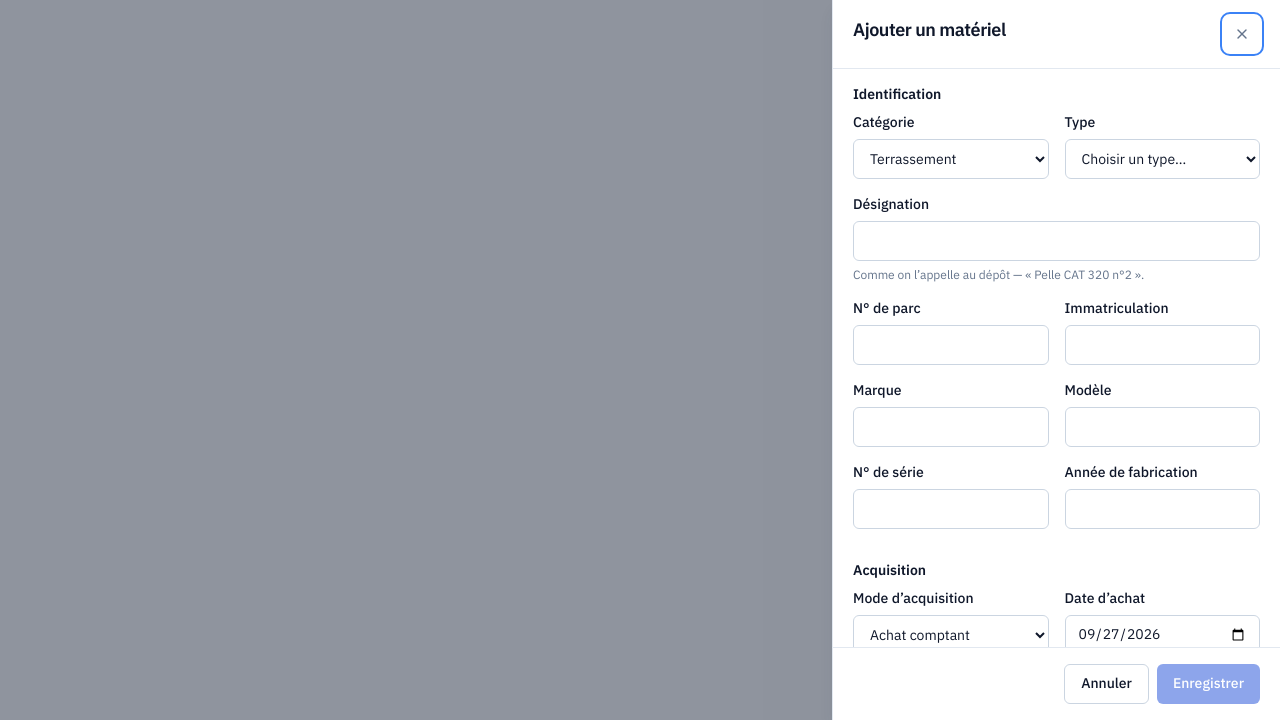
Test: EquipmentDrawer, the money › marks a residual value above the price
Select "Compactage" in the dropdown labelled "Catégorie": x=951, y=159 [853,139,1048,179]
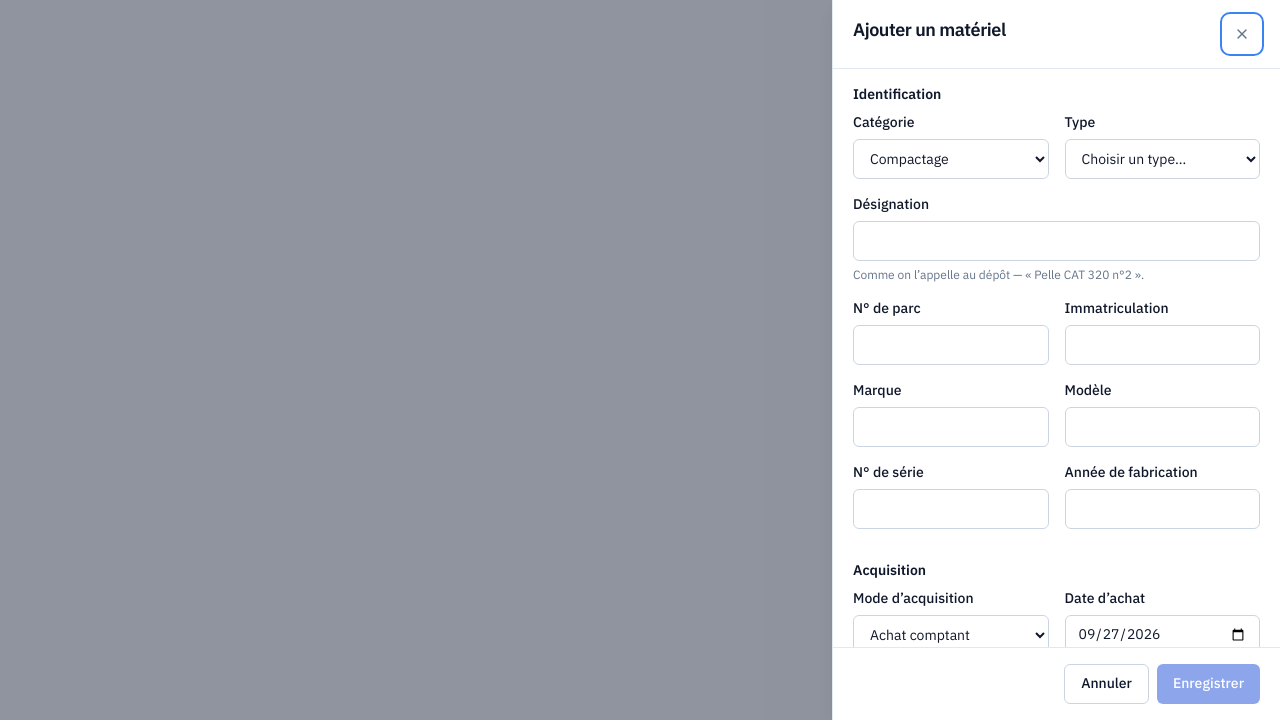
Select "Compacteur tandem" in the dropdown labelled "Type": x=1162, y=159 [1064,139,1260,179]
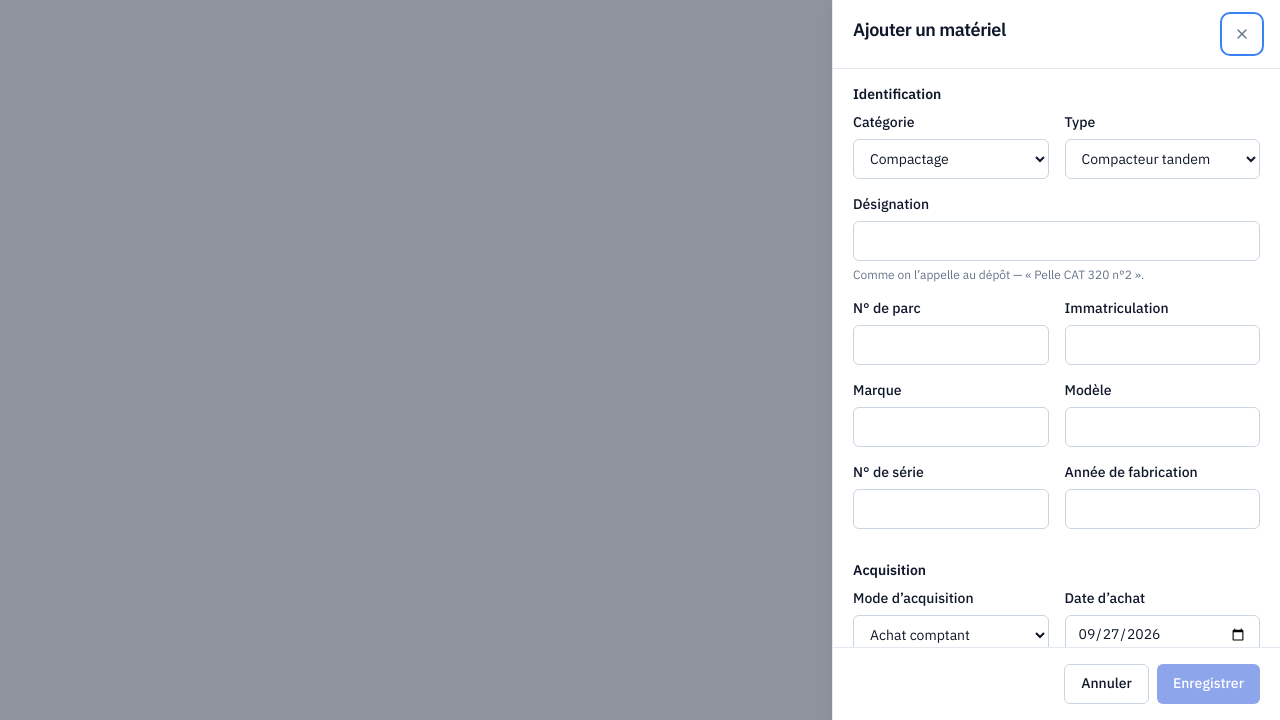
In the field labelled "Désignation": x=1056, y=241 [853,221,1260,261], type "Compacteur tandem HAMM"
(page scrolled)
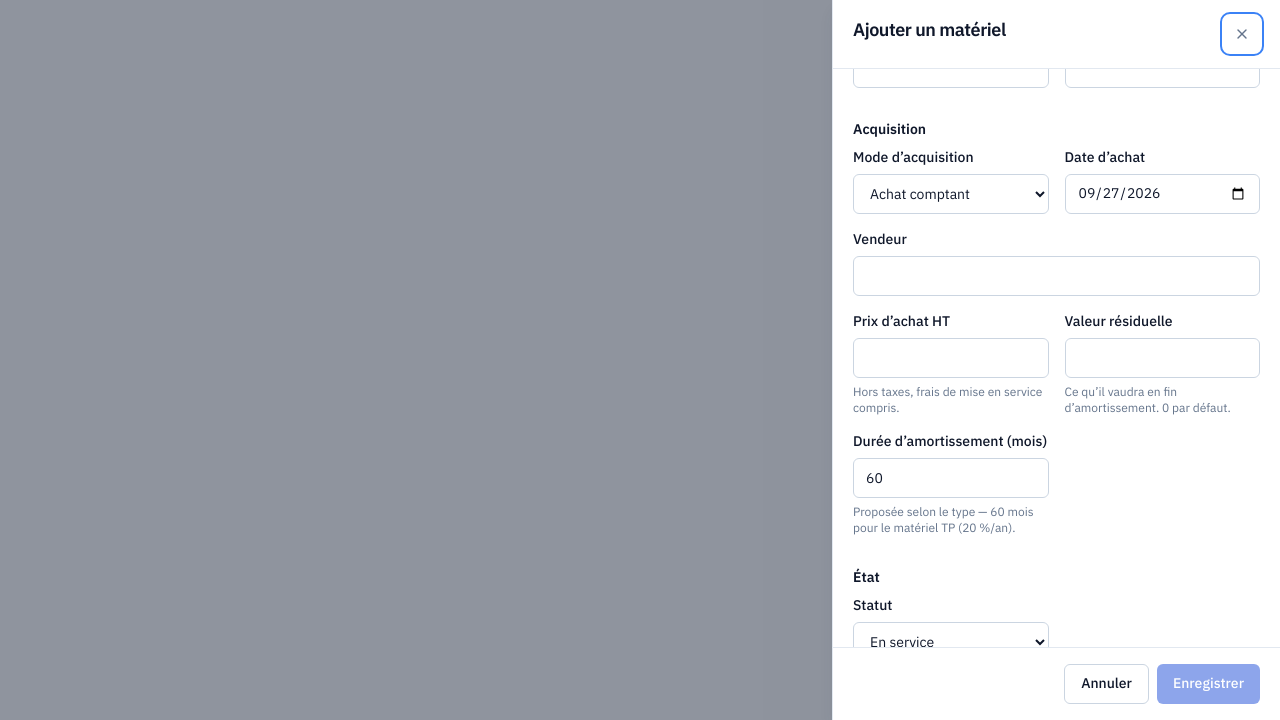
In the number field labelled "Prix d’achat HT": x=951, y=358 [853,338,1048,378], type "1000"
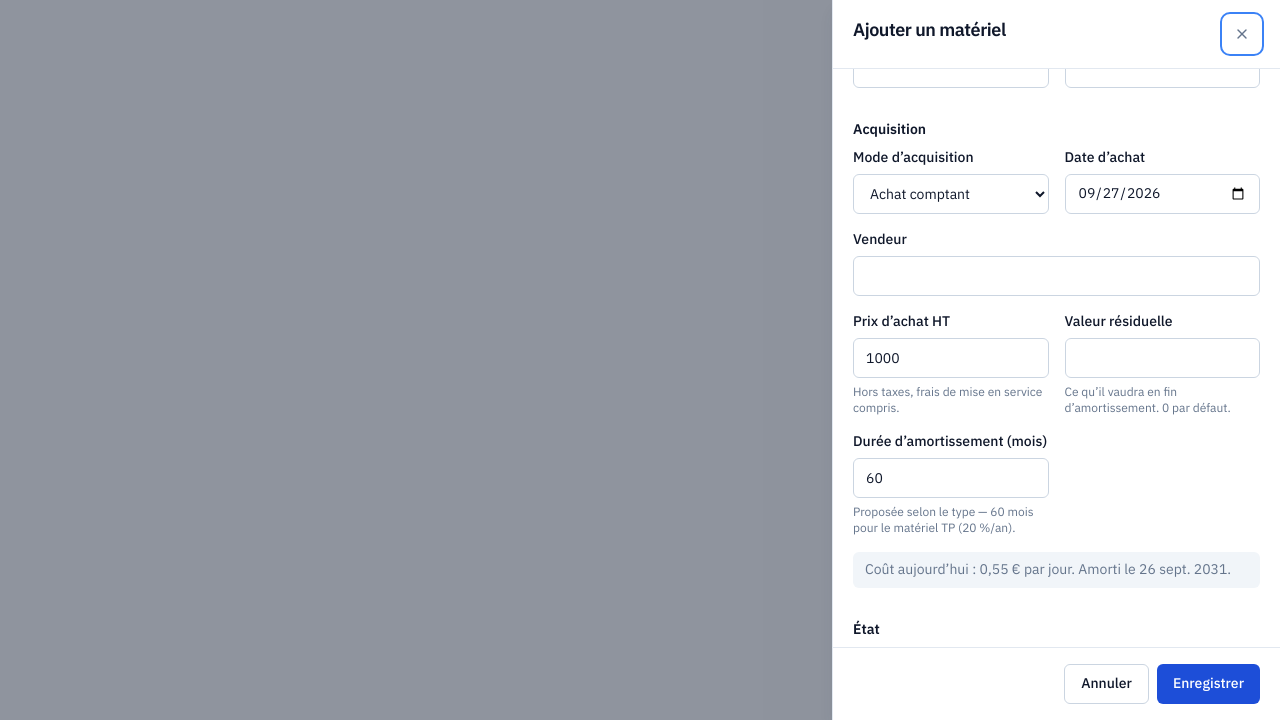
In the number field labelled "Valeur résiduelle": x=1162, y=358 [1064,338,1260,378], type "2000"
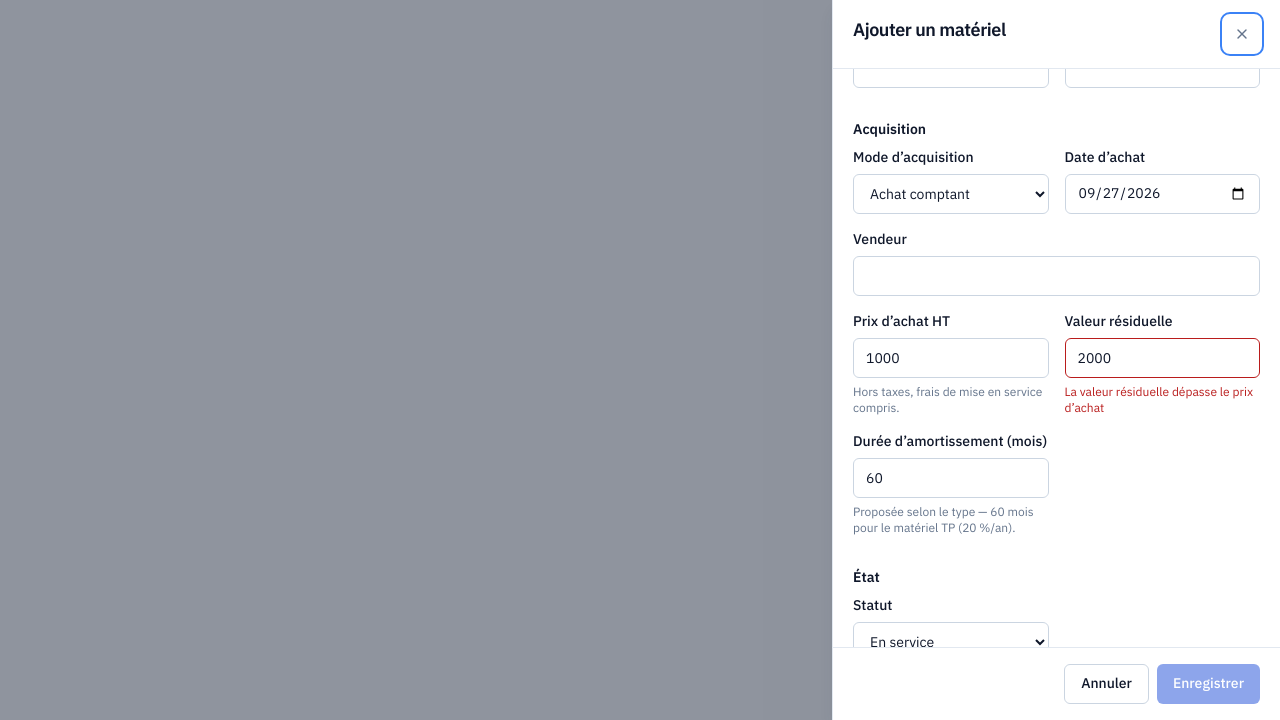
Expected: the button "Enregistrer" is disabled, [1157,664,1260,704]
Expected: the text "La valeur résiduelle dépasse le prix d’achat" is shown, [1064,384,1260,416]
